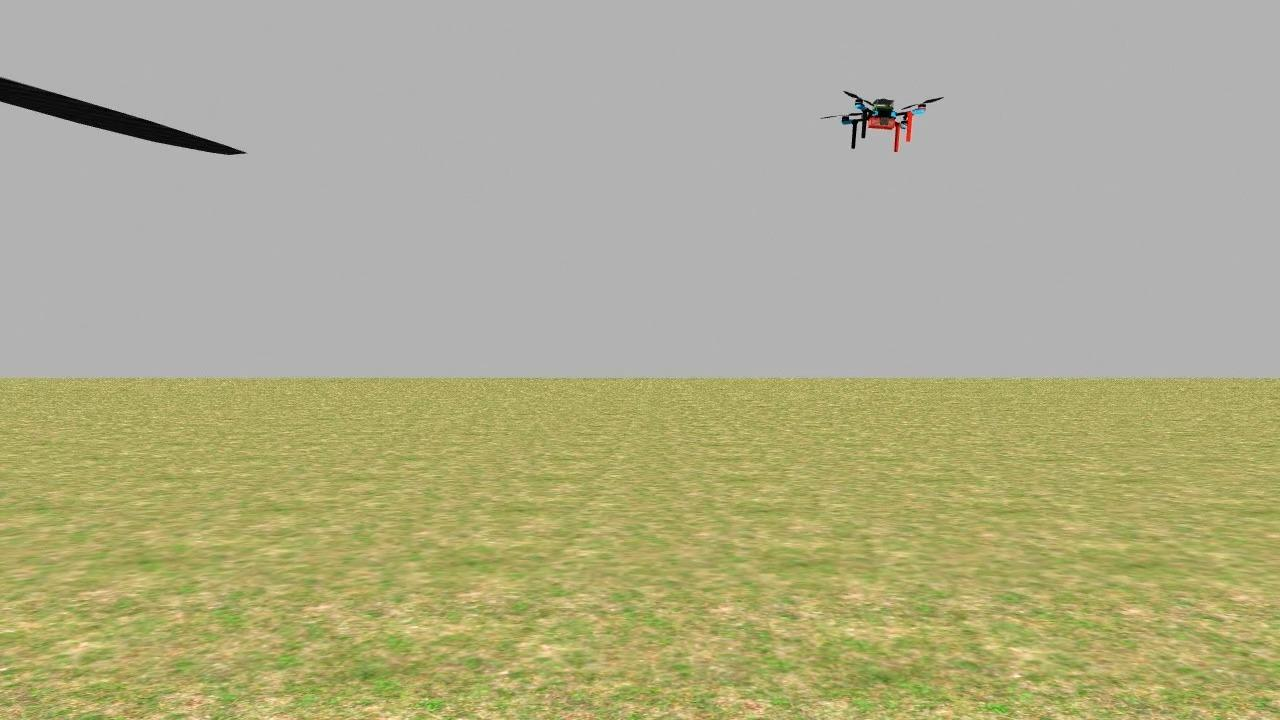UAV: (827, 89, 933, 158)
